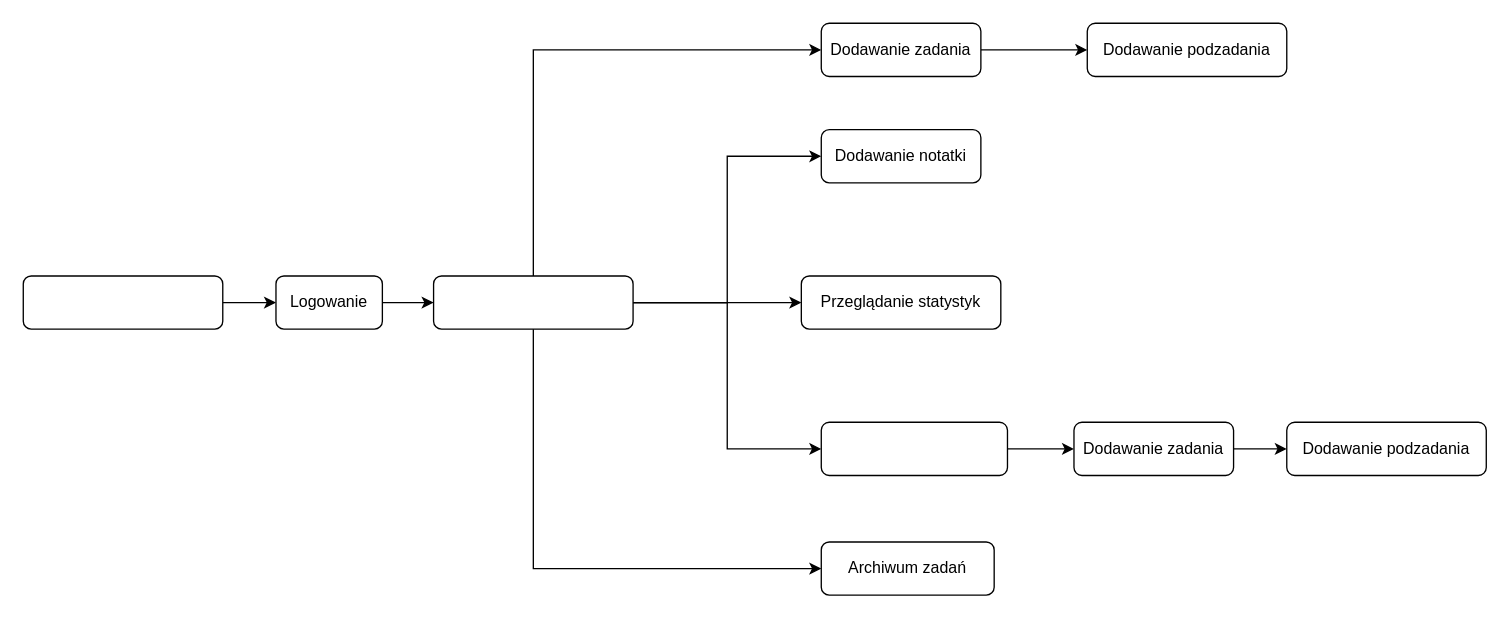
Image size: 1510x618. Some labels were removed from this diagram. Here are the shapes that lost their labels. From the top down, the centre of each, then its label:
At (x=122, y=302): "Rejestracja użytkownika".
At (x=532, y=302): "Przeglądanie listy zadań".
At (x=913, y=448): "Dodawanie grupy zadań".
